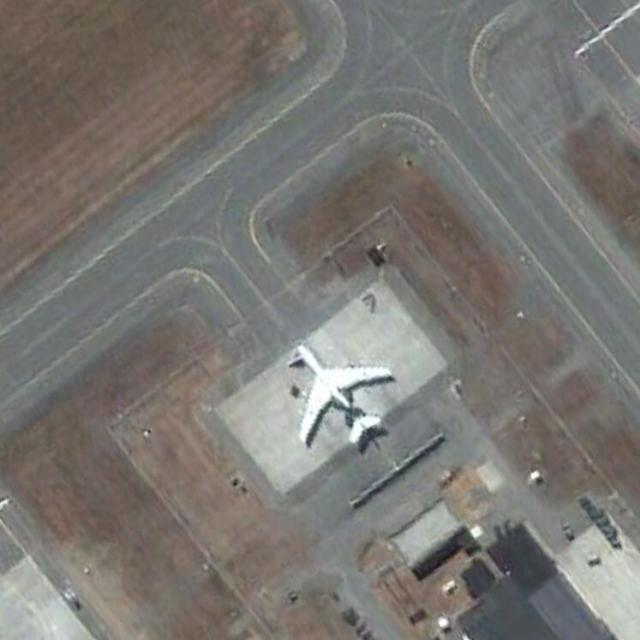fighter jet: (273, 343, 397, 459)
